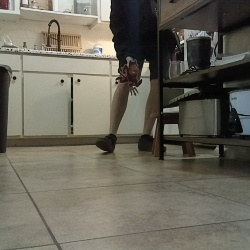sparky: (114, 58, 142, 97)
